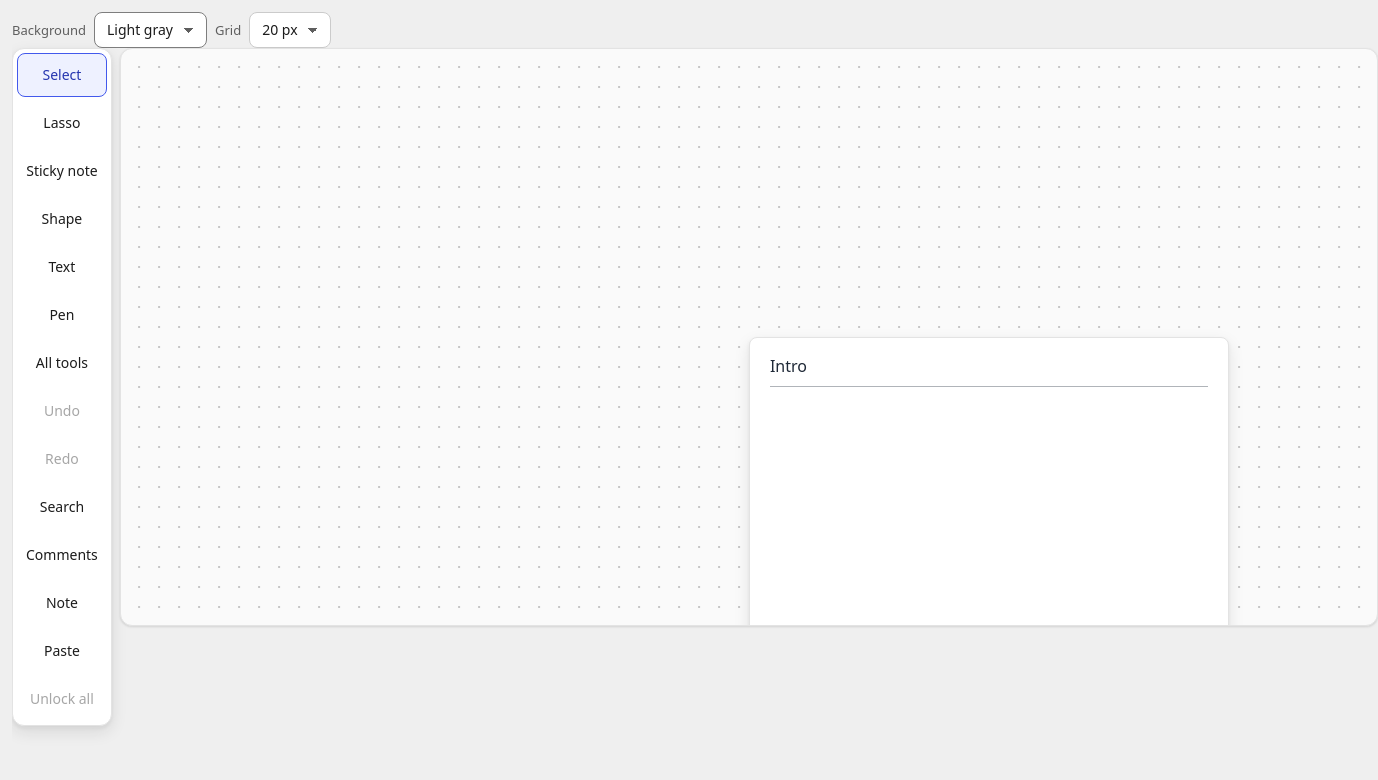
Scenario: TXT-04, TXT-06: меню «/» в документе › BUG-013: «/» в пустой строке сразу после разделителя открывает меню
The image size is (1378, 780).
Press the mouse on the element showing "Intro" at coordinates (989, 517), box [749, 337, 1229, 697]
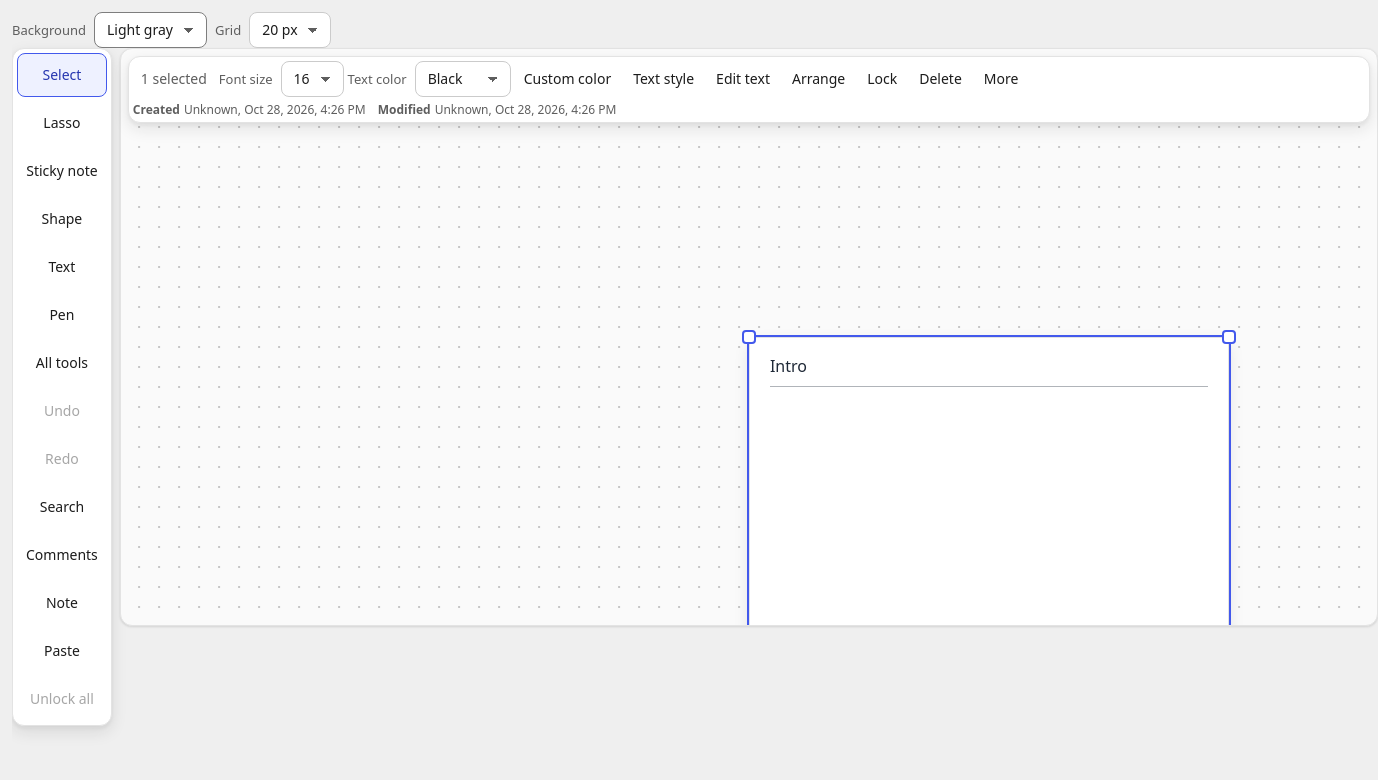
Click the button "Edit text" at coordinates (743, 79), box [707, 61, 779, 97]
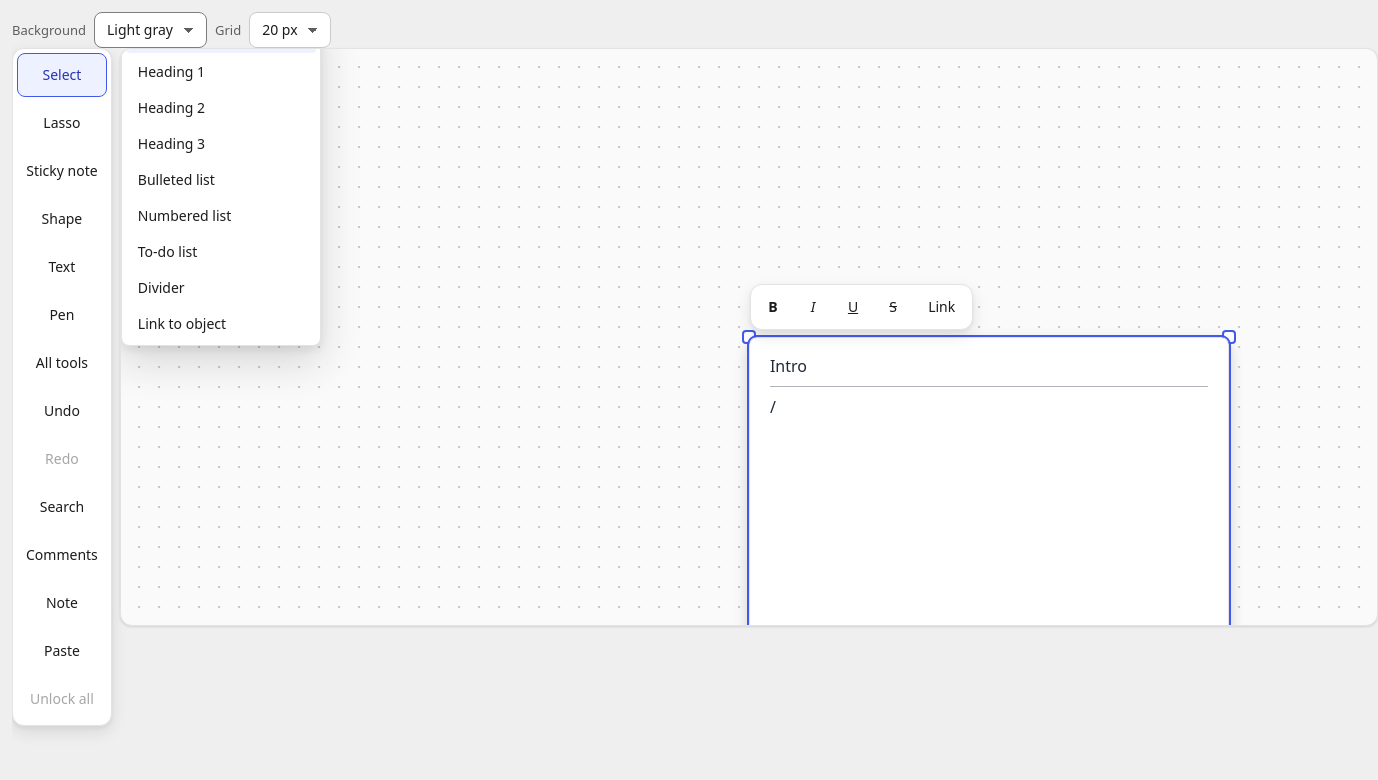
Now the menu named "Insert block" is shown, box [121, 48, 321, 346]
